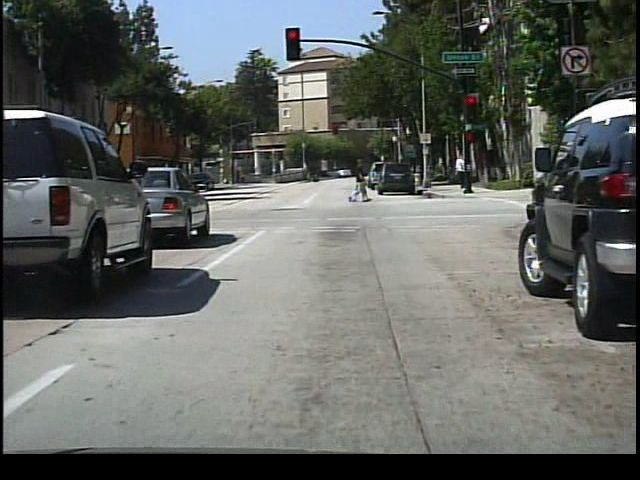person: (348, 157, 374, 205), (453, 149, 472, 192)
